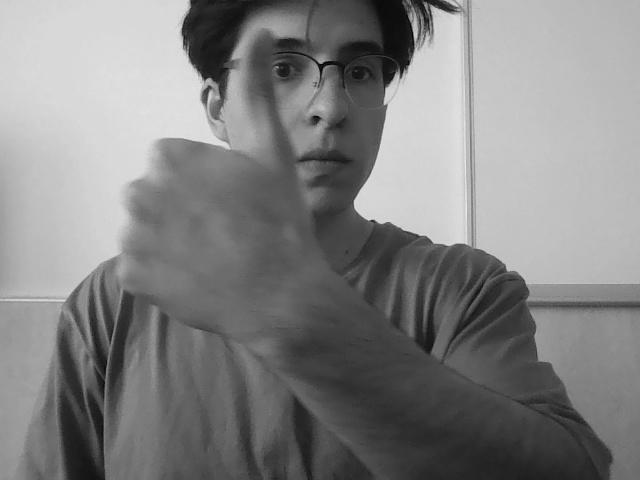good: (112, 24, 326, 331)
